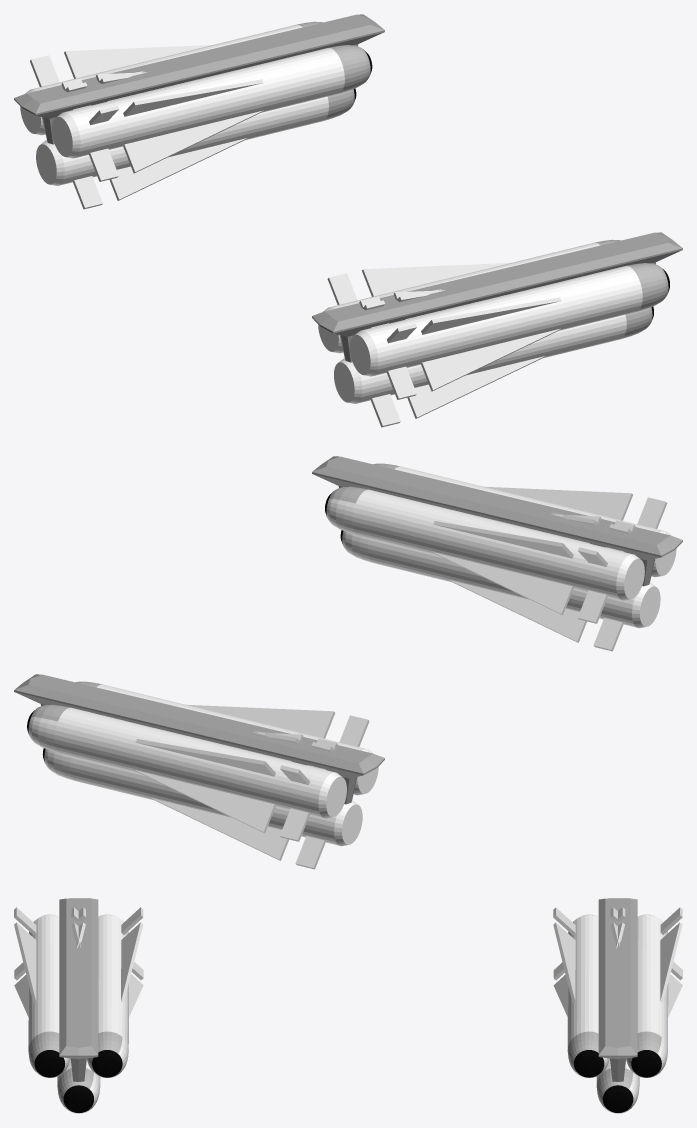
The model's file is f16cagm6523.glb.
The picture shows the model from 3 angles, top to bottom: view 1: azimuth 30°, elevation 25°; view 2: azimuth 150°, elevation 25°; view 3: azimuth 270°, elevation 25°; orthographic projection. The views are drawn at different scales.
Visible parts, largest first — view 1: 立方体.008, 立方体.002, 立方体.005, 立方体.004, 立方体.003, 立方体.027, 立方体.007, 立方体.001; view 2: 立方体.001, 立方体.007, 立方体.004, 立方体.005, 立方体.003, 立方体.027, 立方体.002, 立方体.008; view 3: 立方体.004, 立方体.002, 立方体.005, 立方体.008, 立方体.007, 立方体.001, 立方体.027, 立方体.003.
Boxes of the visible parts, x1=… form: 立方体.008: x1=52, y1=45, x2=372, y2=181; 立方体.002: x1=350, y1=263, x2=669, y2=399; 立方体.005: x1=14, y1=14, x2=384, y2=144; 立方体.004: x1=312, y1=232, x2=682, y2=362; 立方体.003: x1=36, y1=88, x2=356, y2=209; 立方体.027: x1=334, y1=306, x2=653, y2=427; 立方体.007: x1=20, y1=21, x2=322, y2=135; 立方体.001: x1=318, y1=239, x2=621, y2=353; 立方体.001: x1=325, y1=486, x2=644, y2=623; 立方体.007: x1=27, y1=704, x2=346, y2=841; 立方体.004: x1=312, y1=456, x2=682, y2=586; 立方体.005: x1=14, y1=674, x2=384, y2=804; 立方体.003: x1=42, y1=748, x2=362, y2=869; 立方体.027: x1=340, y1=530, x2=660, y2=651; 立方体.002: x1=373, y1=463, x2=676, y2=577; 立方体.008: x1=75, y1=681, x2=378, y2=795; 立方体.004: x1=59, y1=898, x2=98, y2=1081; 立方体.002: x1=14, y1=907, x2=85, y2=1077; 立方体.005: x1=598, y1=898, x2=637, y2=1081; 立方体.008: x1=553, y1=907, x2=625, y2=1077; 立方体.007: x1=610, y1=907, x2=682, y2=1077; 立方体.001: x1=71, y1=907, x2=143, y2=1077; 立方体.027: x1=57, y1=1059, x2=100, y2=1113; 立方体.003: x1=596, y1=1059, x2=639, y2=1113.
Size of the model in its own units: 2.9 by 0.8776 by 5.26.
Materials: 3 (1 with a texture image).
